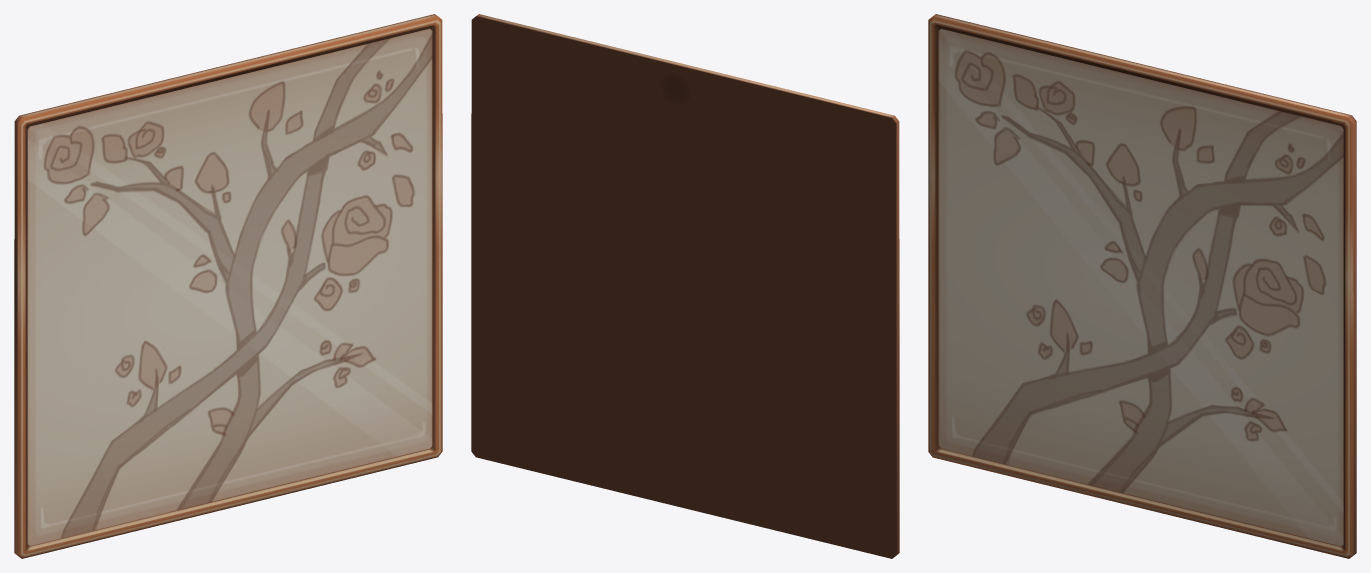
Rendered from bathroom_painting_frame_3.fbx.
3 renders of one model, left to right at view 1: azimuth 30°, elevation 25°; view 2: azimuth 150°, elevation 25°; view 3: azimuth 330°, elevation 25°, orthographic.
Visible parts, largest first — view 1: bathroom_painting_frame_3; view 2: bathroom_painting_frame_3; view 3: bathroom_painting_frame_3.
Boxes of the visible parts, bbox=[...] form: bathroom_painting_frame_3: bbox=[14, 14, 442, 558]; bathroom_painting_frame_3: bbox=[471, 14, 899, 558]; bathroom_painting_frame_3: bbox=[928, 14, 1356, 558].
Size of the model in its own units: 43.07 by 42.72 by 0.7442.
